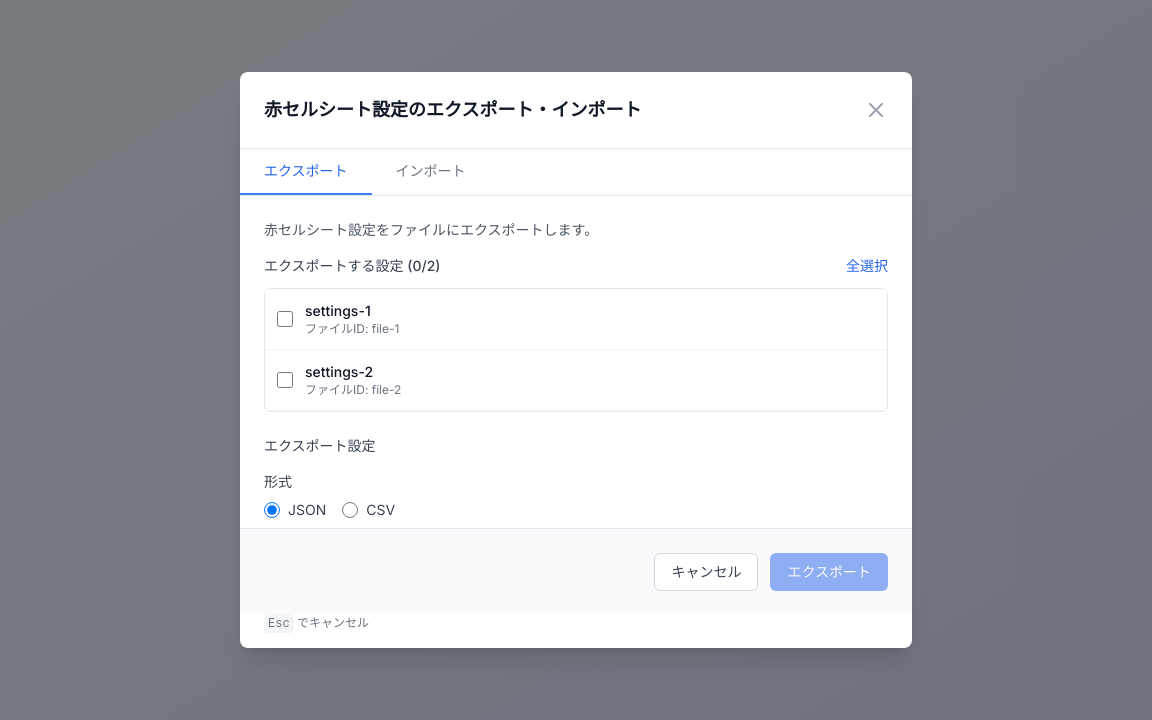
Test: RedactionExportDialog › エクスポート機能 › should select all settings
Click the button with test id "select-all-button" at (867, 266), box x1=846 y1=256 x2=888 y2=276
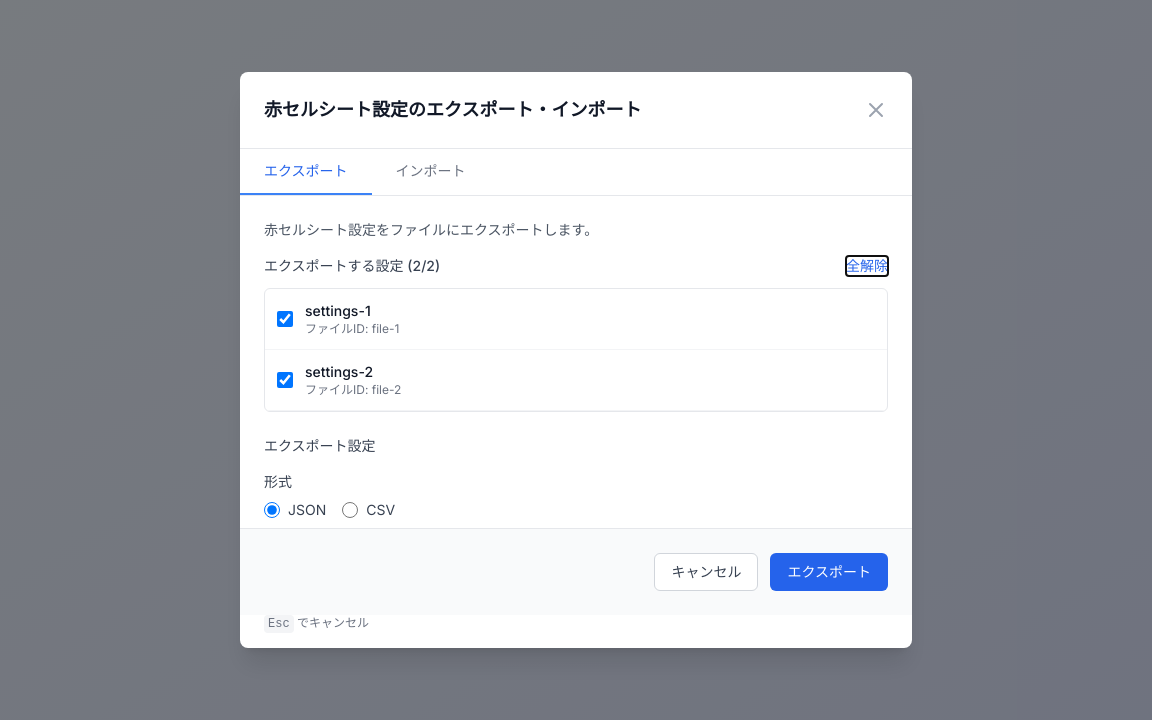
Now the checkbox with test id "export-checkbox-settings-1" is checked, box x1=277 y1=311 x2=293 y2=327
Now the checkbox with test id "export-checkbox-settings-2" is checked, box x1=277 y1=372 x2=293 y2=388
Now the heading "エクスポートする設定 (2/2)" is shown, box x1=264 y1=256 x2=440 y2=276
